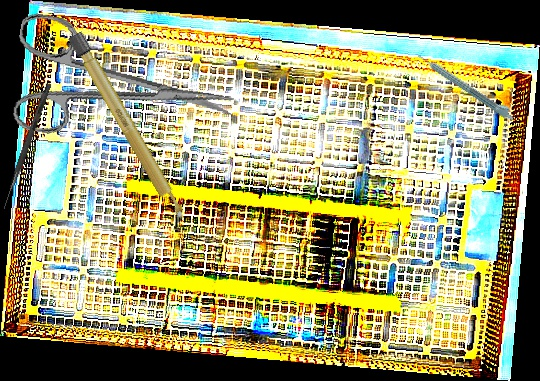Handpiece: (416, 48, 518, 123)
Hook Surgical: (1, 82, 52, 211)
Iris Scissors: (1, 10, 244, 168)
Scalpel Handle: (66, 31, 189, 224)
